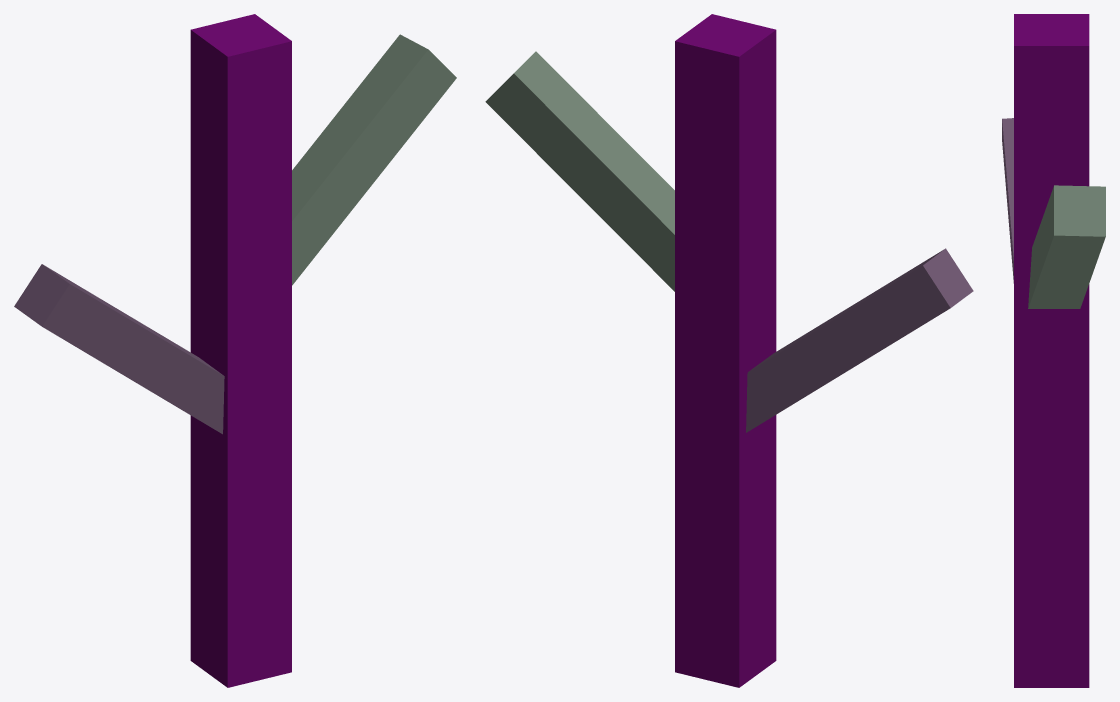
The model's file is HierarchyWindTree.fbx.
The picture shows the model from 3 angles, left to right: view 1: azimuth 30°, elevation 25°; view 2: azimuth 150°, elevation 25°; view 3: azimuth 270°, elevation 25°; orthographic projection.
Visible parts, largest first — view 1: HierarchyWindTree; view 2: HierarchyWindTree; view 3: HierarchyWindTree.
Boxes of the visible parts, left/top/right/bottom form: HierarchyWindTree: left=14, top=14, right=456, bottom=687; HierarchyWindTree: left=485, top=14, right=973, bottom=687; HierarchyWindTree: left=1002, top=14, right=1105, bottom=687.
Size of the model in its own units: 2.2 by 3 by 0.4392.
